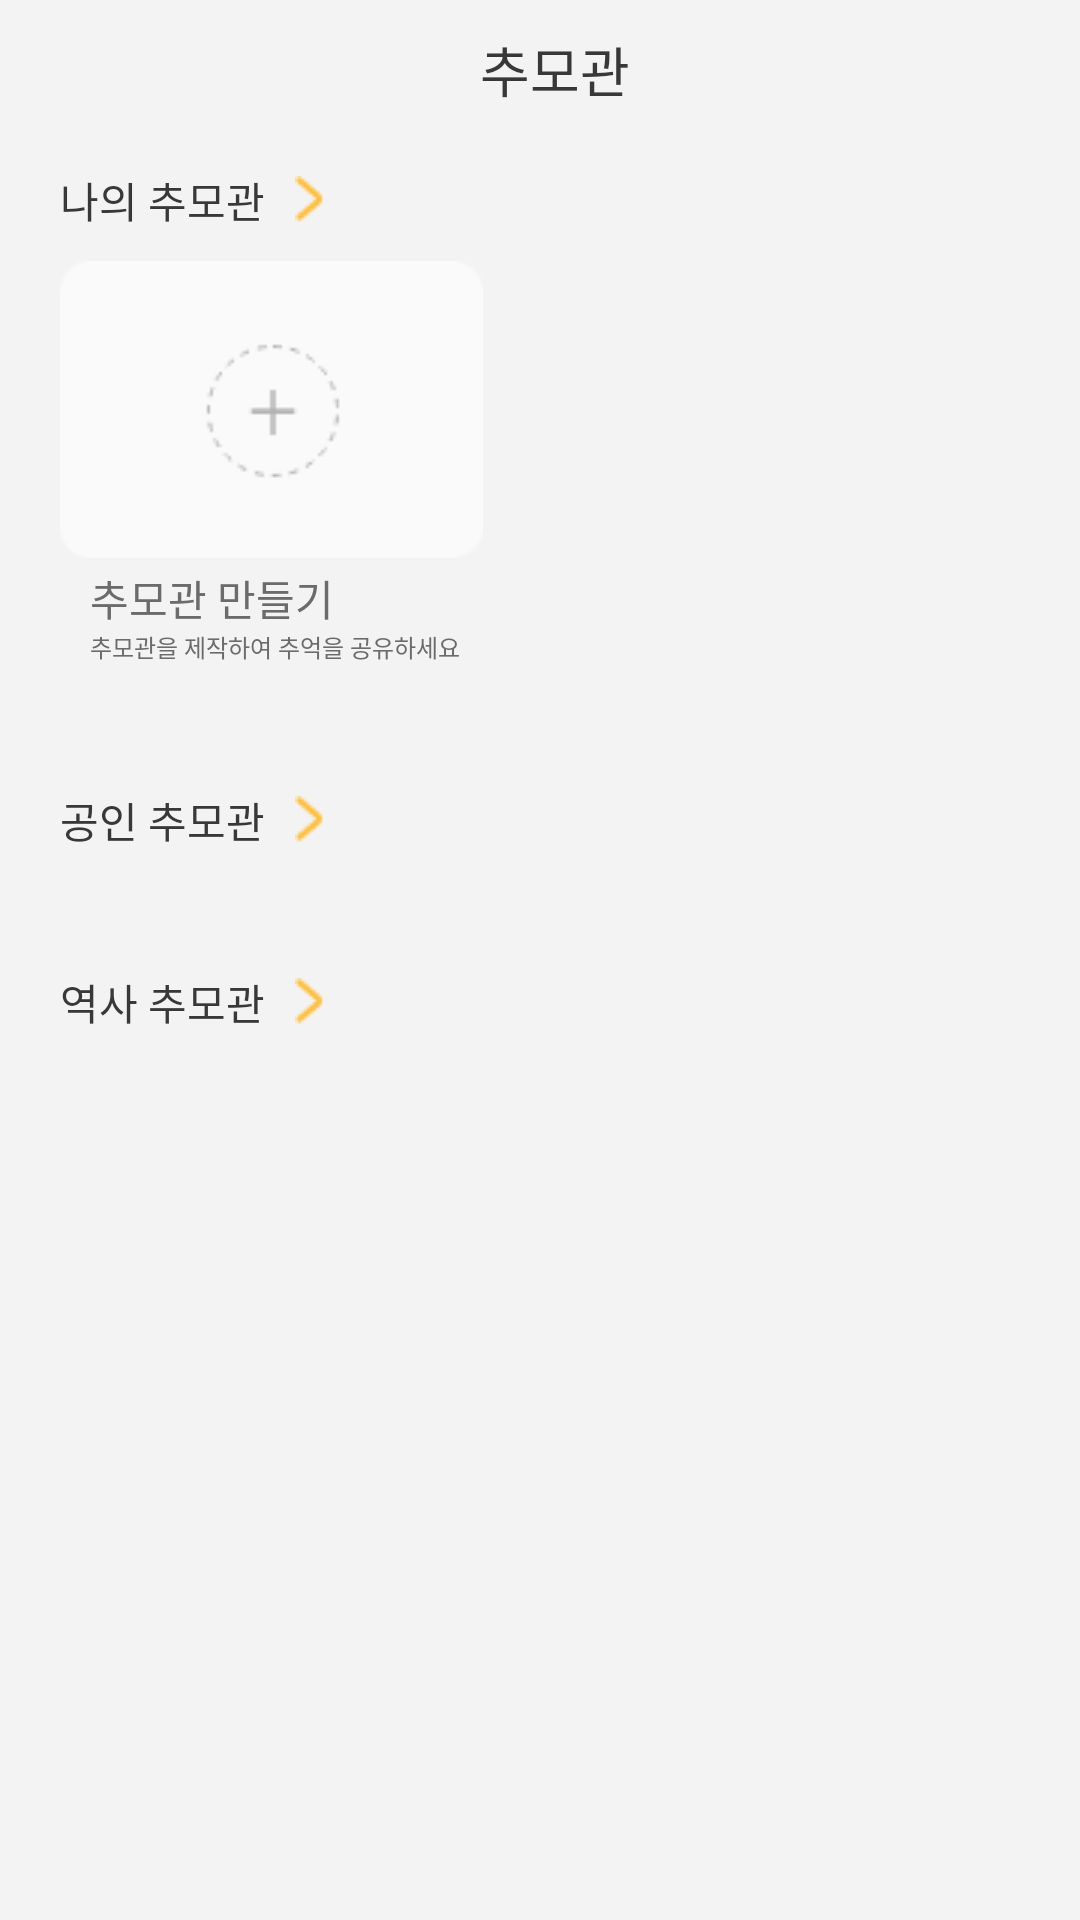

Icon bounding boxes for this 1080px x 1920px phone screenshot, format bbox=[x1, y1, x2, y2]:
allow: bbox=[295, 176, 323, 222], bbox=[295, 796, 323, 842], bbox=[295, 978, 323, 1024]
me puls: bbox=[207, 345, 339, 477]
